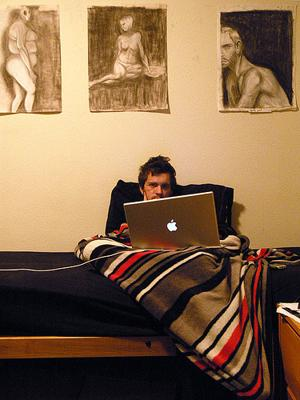person: (116, 157, 178, 246)
